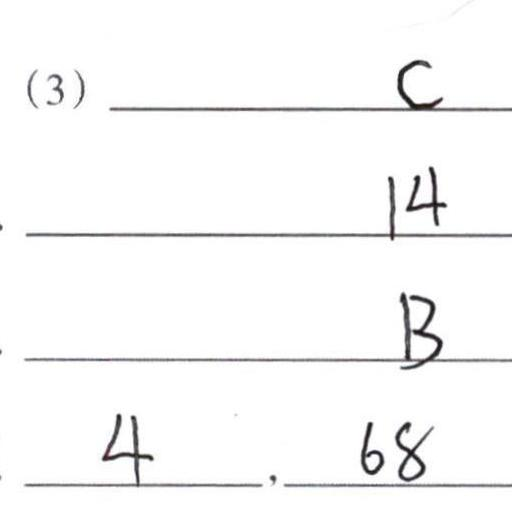ans: (359, 413, 437, 483), (383, 163, 447, 237), (98, 409, 158, 486), (395, 287, 444, 372), (394, 58, 445, 111)
